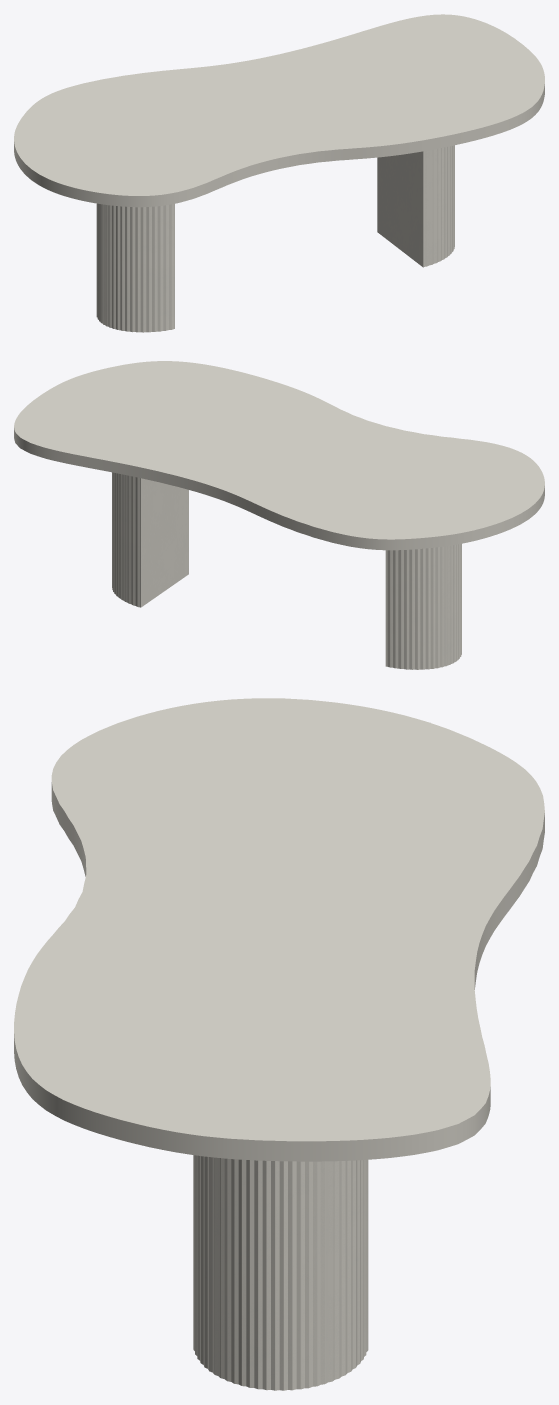
The model's file is pale_wave_standard_flute.glb.
3 views of the same model, one above another, from view 1: azimuth 30°, elevation 25°; view 2: azimuth 150°, elevation 25°; view 3: azimuth 270°, elevation 25° (orthographic). The views are drawn at different scales.
Parts seen in each view (by area): view 1: standard_wave, flute; view 2: standard_wave, flute; view 3: standard_wave, flute.
Part boxes in pixels (bbox=[...]): standard_wave: bbox=[14, 14, 544, 207]; flute: bbox=[96, 145, 454, 332]; standard_wave: bbox=[14, 361, 544, 550]; flute: bbox=[112, 472, 461, 669]; standard_wave: bbox=[14, 698, 544, 1161]; flute: bbox=[193, 1155, 368, 1390].
Bounding box in the file's own units: 7.5 × 2.5 × 3.8.
Materials: 1 (1 with a texture image).
